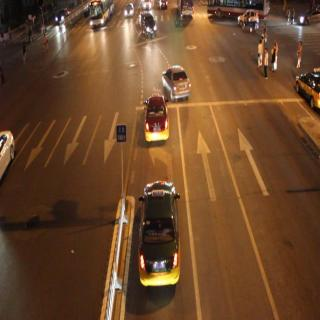BigCar: (89, 0, 120, 34)
Car: (143, 178, 182, 294), (140, 85, 171, 147), (160, 55, 190, 99), (292, 64, 320, 110), (0, 122, 13, 184), (299, 6, 320, 34), (173, 0, 201, 20), (141, 14, 158, 42), (241, 9, 264, 26), (124, 1, 138, 23), (159, 0, 174, 18)
